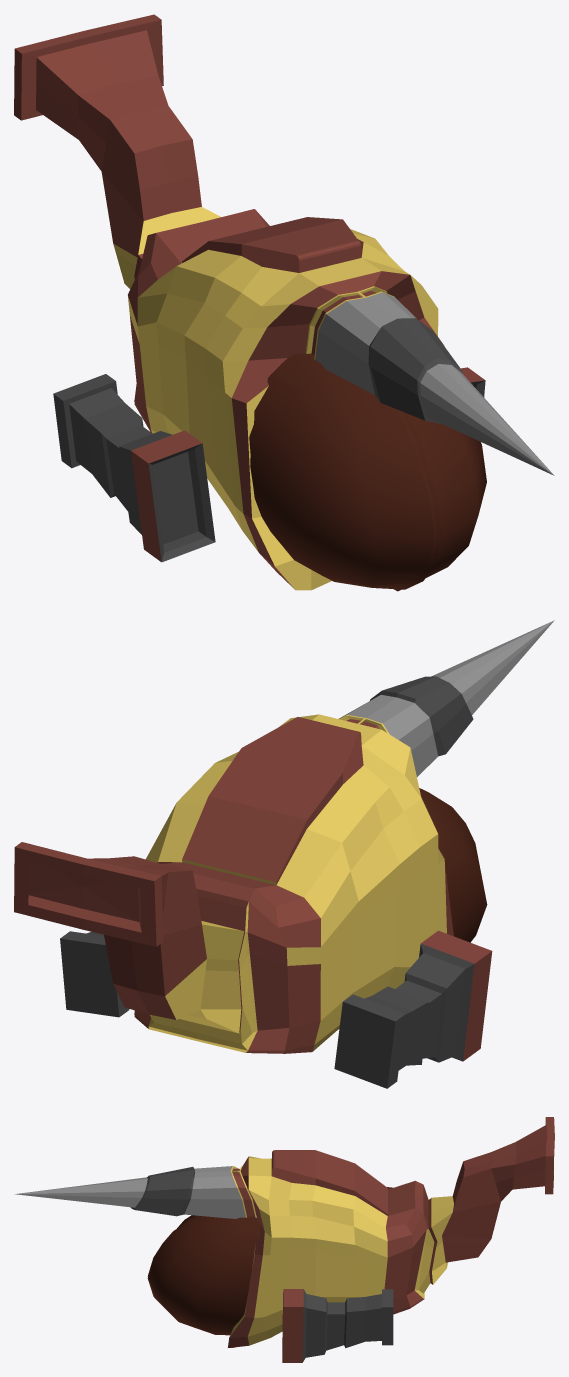
The model's file is Nave_inimiga_01.fbx.
3 views of the same model, one above another, from view 1: azimuth 30°, elevation 25°; view 2: azimuth 150°, elevation 25°; view 3: azimuth 270°, elevation 25° (orthographic). The views are drawn at different scales.
Visible parts, largest first — view 1: Main Ship, Cubo.001; view 2: Main Ship, Cubo.001, Cubo; view 3: Main Ship, Cubo.
Boxes of the visible parts, x1,y1,x2,y2 form: Main Ship: (14,14,554,591); Cubo.001: (53,374,215,562); Main Ship: (14,620,554,1053); Cubo.001: (334,930,492,1088); Cubo: (60,931,129,1017); Main Ship: (14,1117,554,1347); Cubo: (282,1289,393,1362).
Size of the model in its own units: 914 by 889 by 2215.
